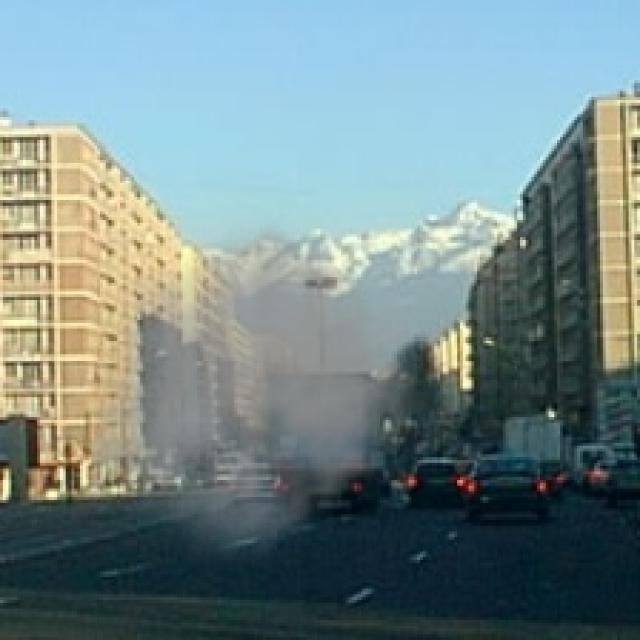Smoke: (94, 208, 454, 574)
